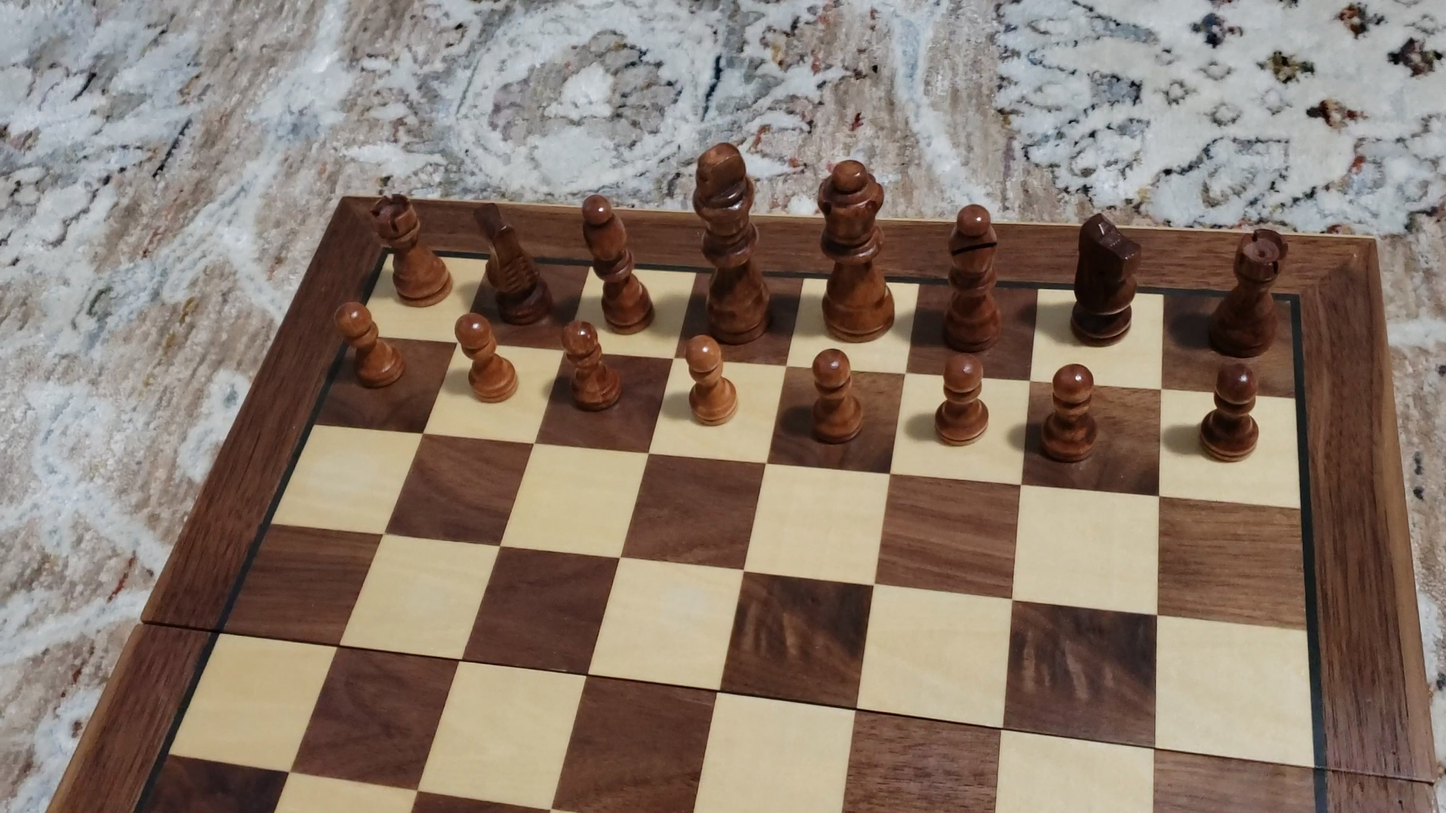black-bishop: (579, 191, 655, 334), (944, 200, 1001, 353)
black-king: (691, 137, 772, 347)
black-knight: (471, 198, 552, 326), (1069, 207, 1140, 343)
black-pawn: (1196, 360, 1264, 465), (333, 299, 407, 391), (1038, 361, 1102, 467), (453, 311, 517, 405), (561, 319, 624, 414), (807, 346, 866, 447), (932, 351, 991, 448), (681, 332, 738, 428)
black-queen: (811, 155, 895, 343)
black-rook: (1206, 224, 1288, 357), (369, 190, 452, 307)
